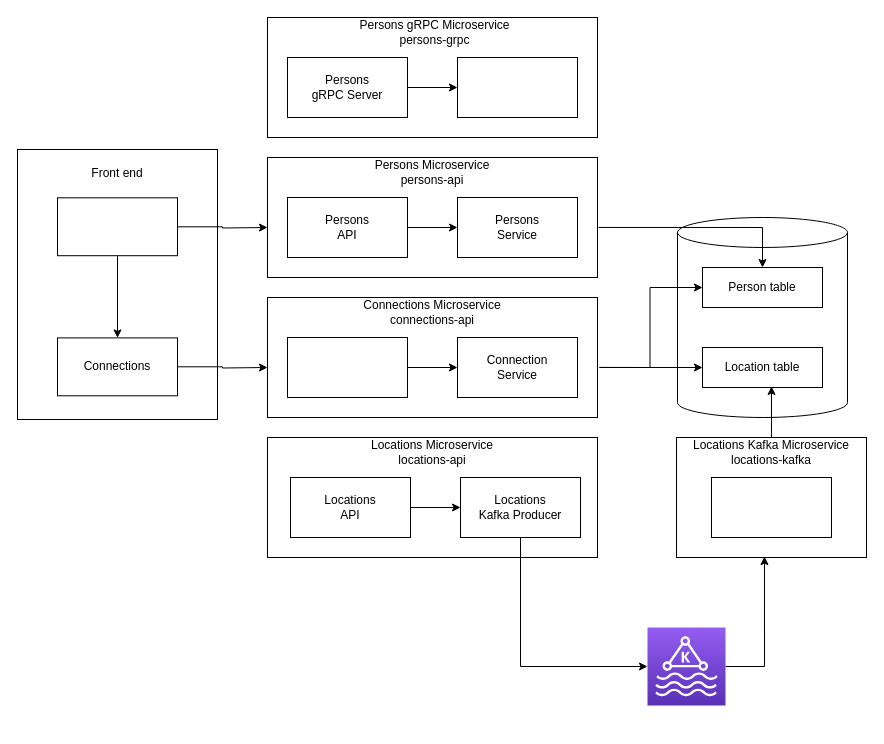
The diagram is 884 pixels wide and 744 high, and some of its shapes have lost their labels. The shapes that lost their labels are listed below. From the top down, each one's centre as x and y in pixels, then its label:
At pixel 517 87: "Persons Mock Service".
At pixel 117 226: "Persons".
At pixel 347 367: "Connections API".
At pixel 771 507: "Locations Kafka Consumer".
At pixel 686 666: "Kafka".
